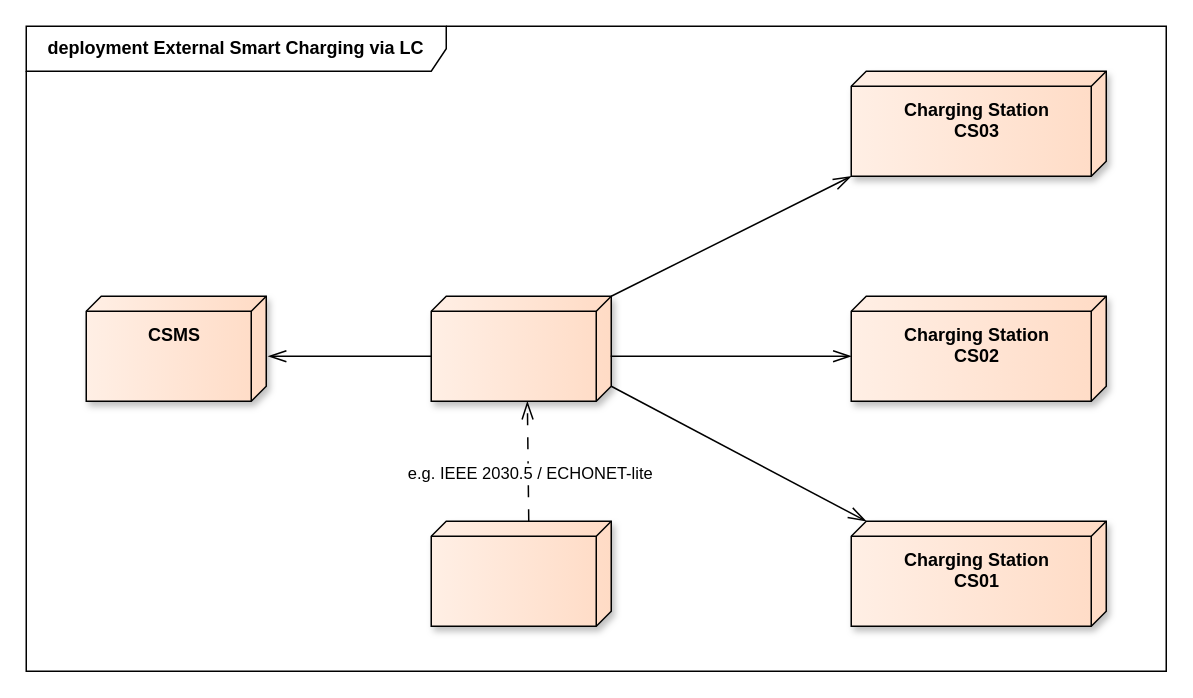
Some shapes in this 1193 by 698 pixel diagram are drawn without their labels. Here are the shapes that lost their labels. From the top down, the centre of each, then its label:
At pixel 522 350: "Local Controller".
At pixel 522 575: "EMS".
